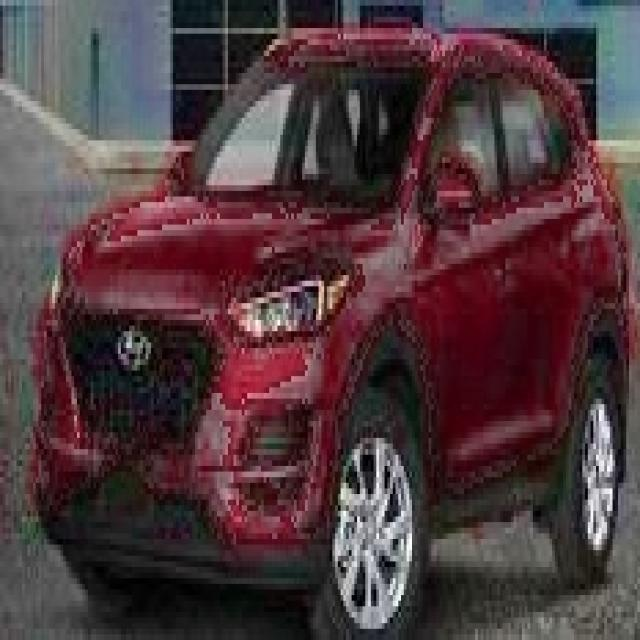maroon: (35, 25, 640, 597)
